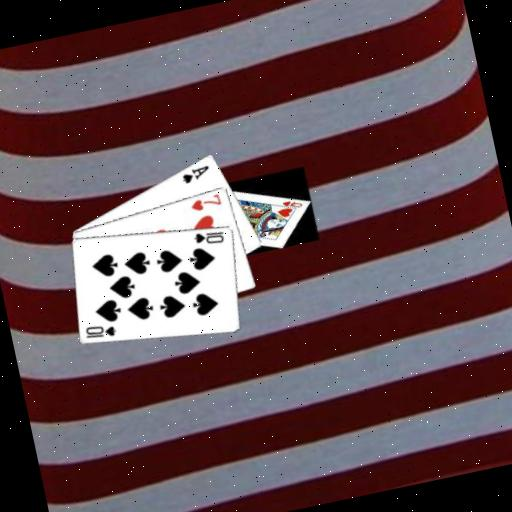10S: (81, 318, 119, 343), (190, 224, 227, 249)
7H: (186, 190, 223, 214)
AS: (177, 161, 213, 186)
